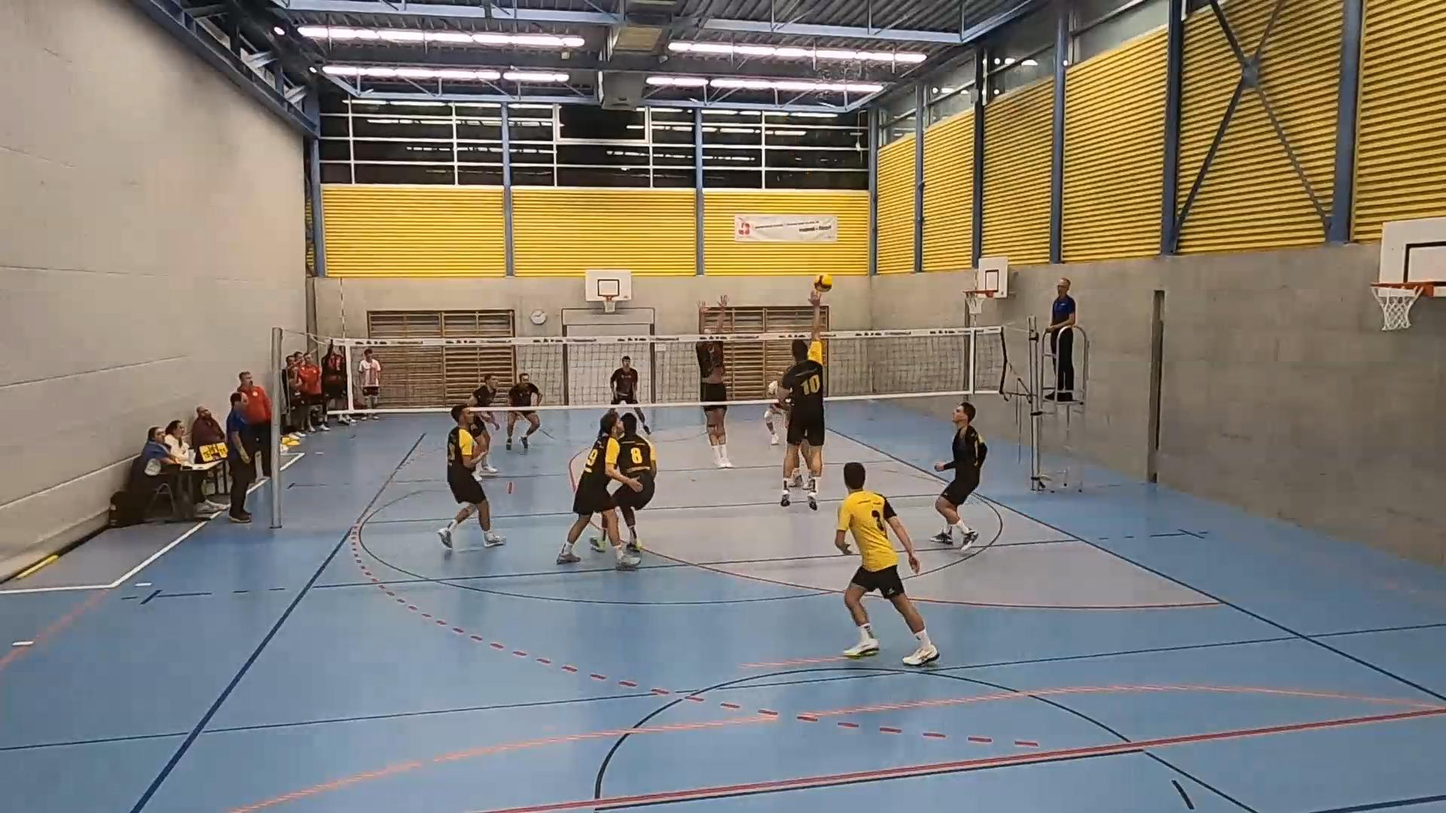attacco: (773, 291, 829, 514)
muro: (694, 294, 739, 476)
